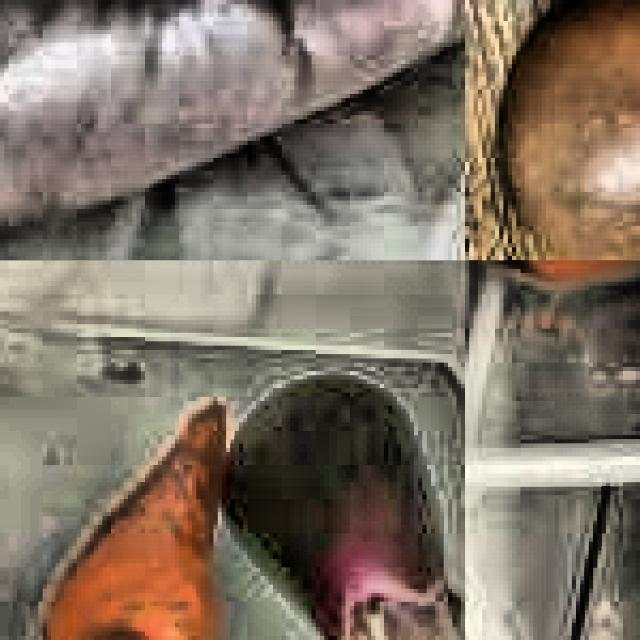carrot: (38, 392, 243, 640)
egg: (478, 0, 640, 260)
eggplant: (213, 362, 464, 640)
